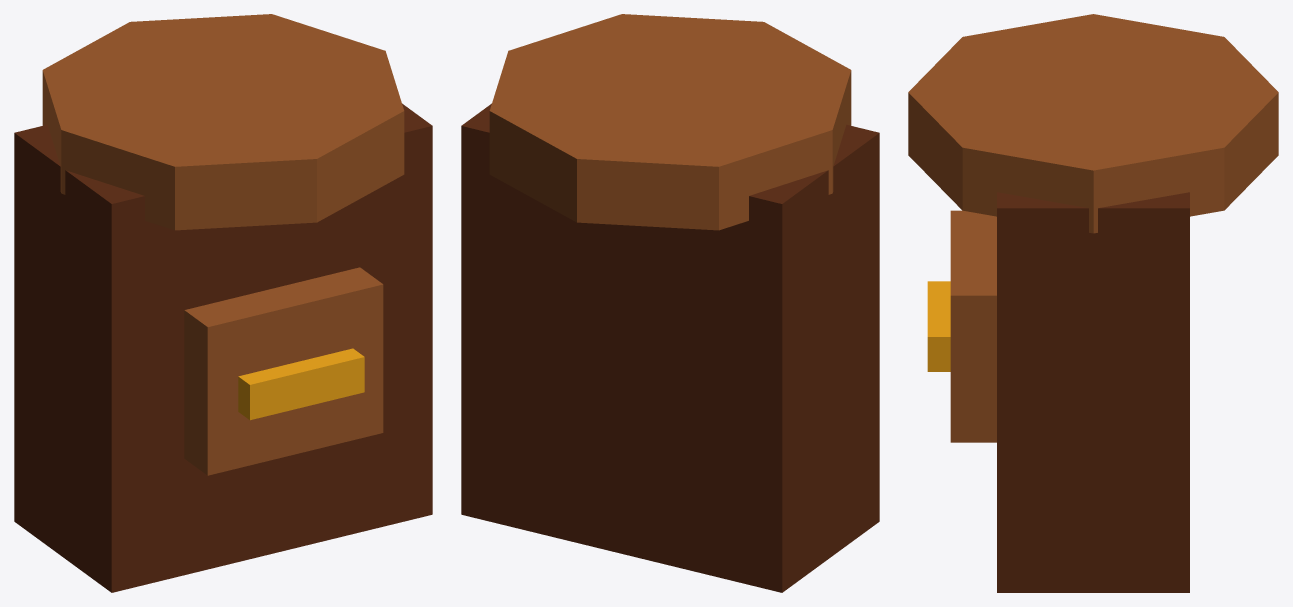
The model's file is inventory_upgrade.obj.
3 renders of one model, left to right at view 1: azimuth 30°, elevation 25°; view 2: azimuth 150°, elevation 25°; view 3: azimuth 270°, elevation 25°, orthographic.
Visible parts, largest first — view 1: models/items/inventory_upgrade.obj; view 2: models/items/inventory_upgrade.obj; view 3: models/items/inventory_upgrade.obj.
Boxes of the visible parts, <box> form: models/items/inventory_upgrade.obj: <box>14,14,432,592</box>; models/items/inventory_upgrade.obj: <box>461,14,879,592</box>; models/items/inventory_upgrade.obj: <box>908,14,1278,592</box>.
Bounding box in the file's own units: 0.96 × 1.21 × 0.96.
